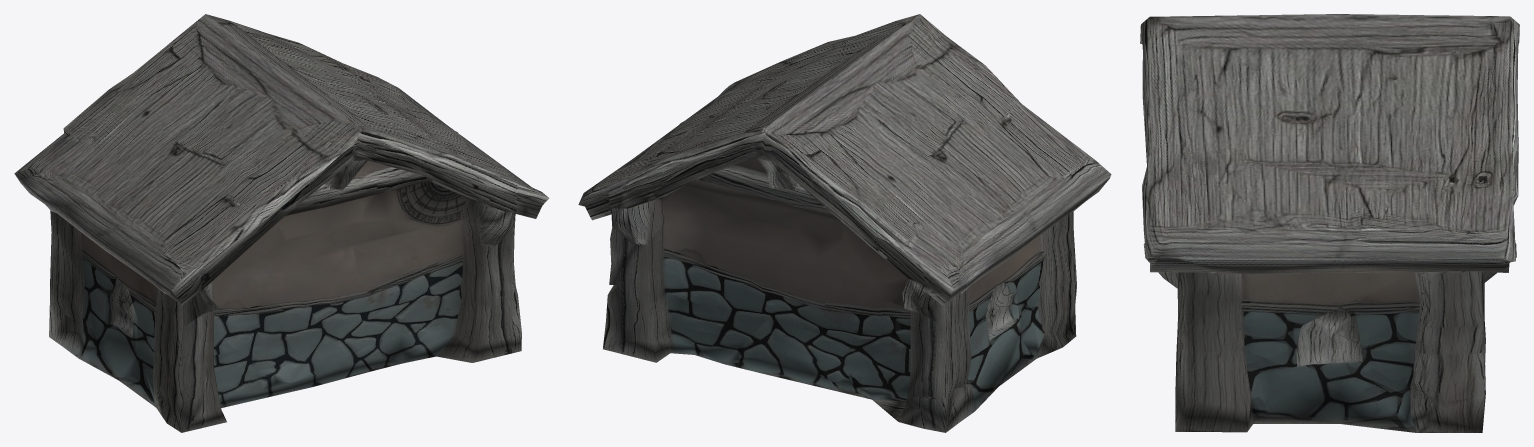
The model's file is prop-hut-wall.glb.
The picture shows the model from 3 angles, left to right: view 1: azimuth 30°, elevation 25°; view 2: azimuth 150°, elevation 25°; view 3: azimuth 270°, elevation 25°; orthographic projection. The views are drawn at different scales.
Size of the model in its own units: 2 by 1.39 by 1.5.
1 material, 1 textured.
